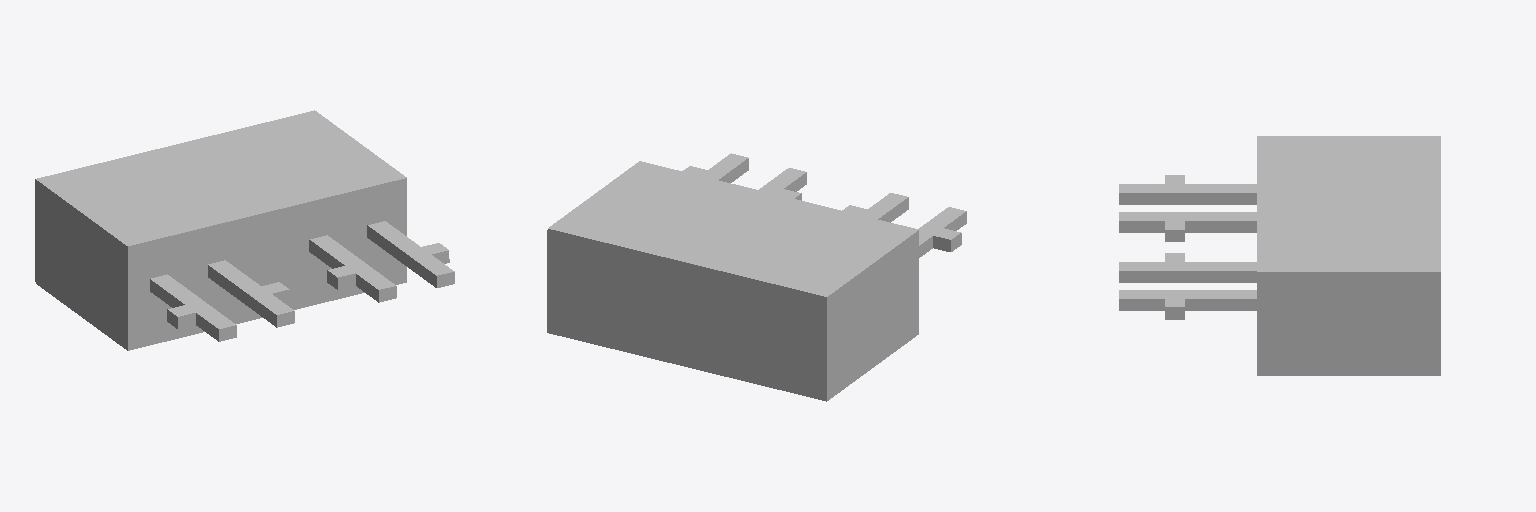
The model's file is IRIDIAepuck3D_Nov2019_Proximity5.obj.
3 renders of one model, left to right at view 1: azimuth 30°, elevation 25°; view 2: azimuth 150°, elevation 25°; view 3: azimuth 270°, elevation 25°, orthographic.
Parts seen in each view (by area): view 1: brep_86; view 2: brep_86; view 3: brep_86.
Boxes of the visible parts, box(x1,y1,x2,y2) form: brep_86: box(35, 110, 454, 350); brep_86: box(547, 153, 966, 401); brep_86: box(1119, 136, 1440, 375).
Size of the model in its own units: 0.007 by 0.0025 by 0.007.